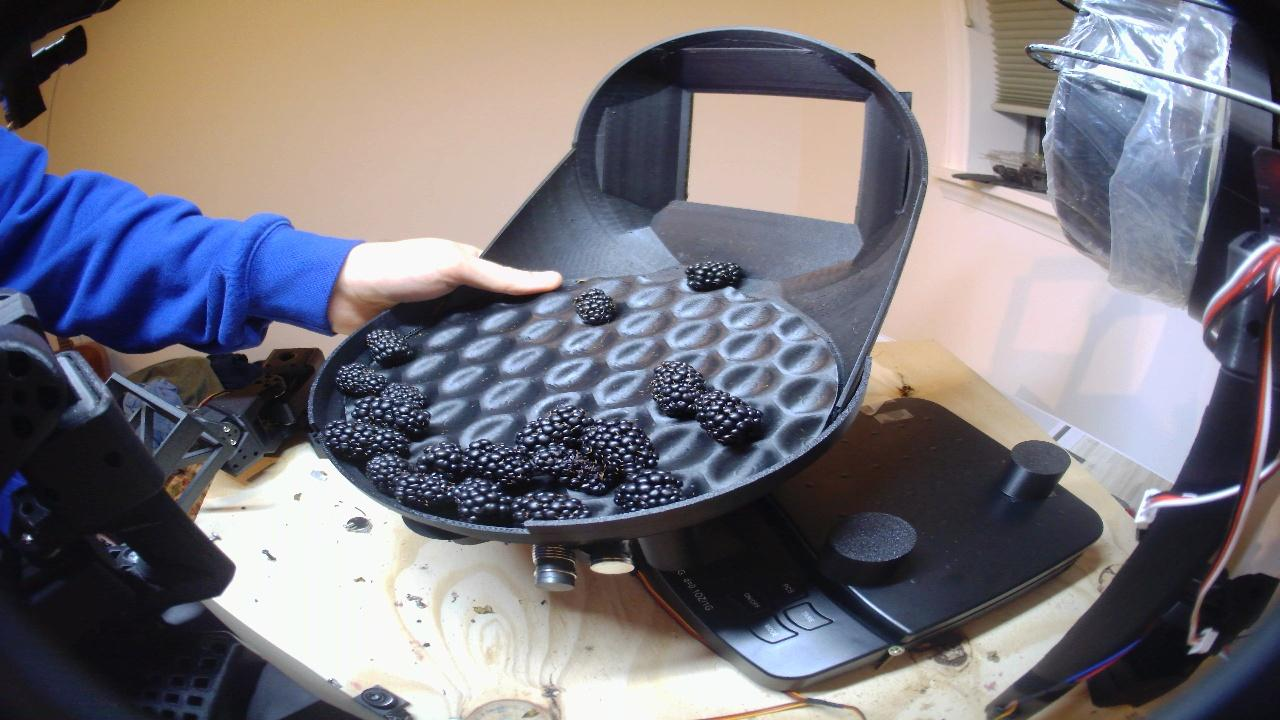berry: (580, 420, 658, 474), (695, 392, 774, 445), (534, 444, 615, 494), (324, 421, 409, 462), (464, 439, 533, 489), (517, 403, 594, 447), (354, 397, 430, 439), (649, 361, 705, 418), (615, 470, 683, 511), (452, 478, 512, 524), (392, 473, 455, 510), (513, 491, 588, 522), (416, 440, 469, 480), (365, 329, 415, 366), (337, 363, 388, 396), (364, 453, 408, 490), (686, 262, 742, 290), (574, 290, 617, 324), (378, 383, 425, 406)
